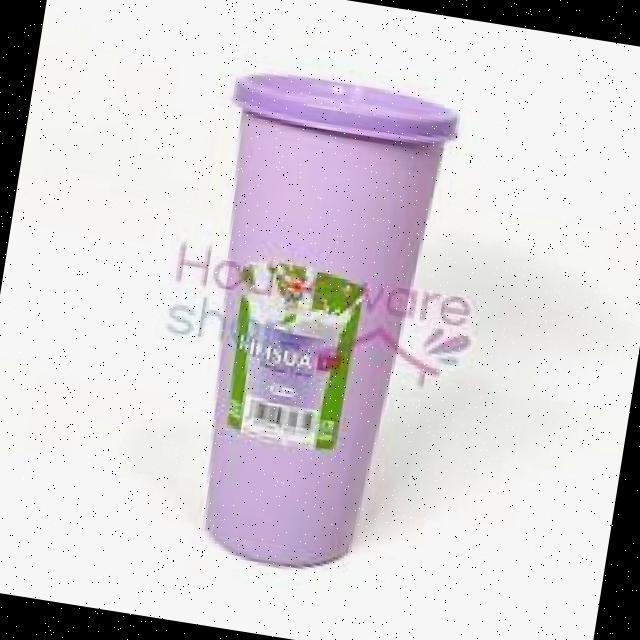bottle: (99, 42, 500, 615)
